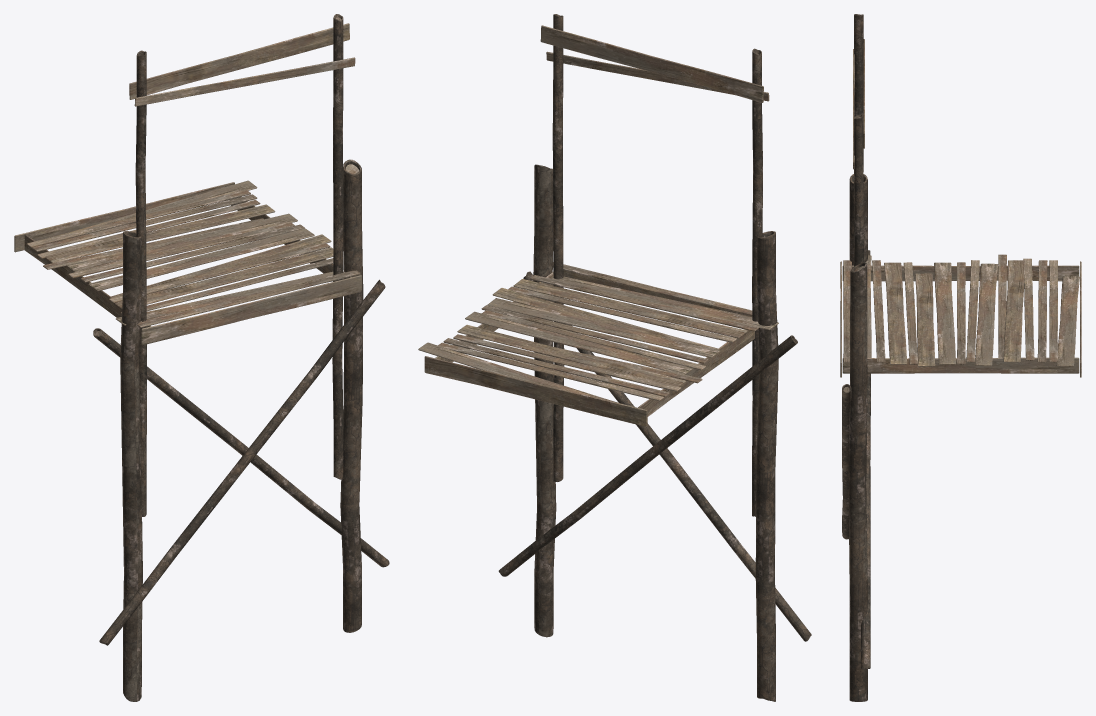
The model's file is SM_Gangway_06.fbx.
3 renders of one model, left to right at view 1: azimuth 30°, elevation 25°; view 2: azimuth 150°, elevation 25°; view 3: azimuth 270°, elevation 25°, orthographic. The views are drawn at different scales.
Parts seen in each view (by area): view 1: SM_Gangway_06_LOD0; view 2: SM_Gangway_06_LOD0; view 3: SM_Gangway_06_LOD0.
Boxes of the visible parts, left/top/right/bottom form: SM_Gangway_06_LOD0: left=14, top=14, right=389, bottom=701; SM_Gangway_06_LOD0: left=418, top=14, right=811, bottom=701; SM_Gangway_06_LOD0: left=840, top=14, right=1081, bottom=701.
Size of the model in its own units: 542 by 403 by 1119.
Materials: 3 (3 with a texture image).
